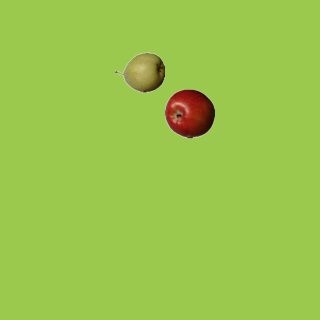Apple Braeburn: (164, 88, 214, 138)
Pear: (114, 47, 164, 97)
